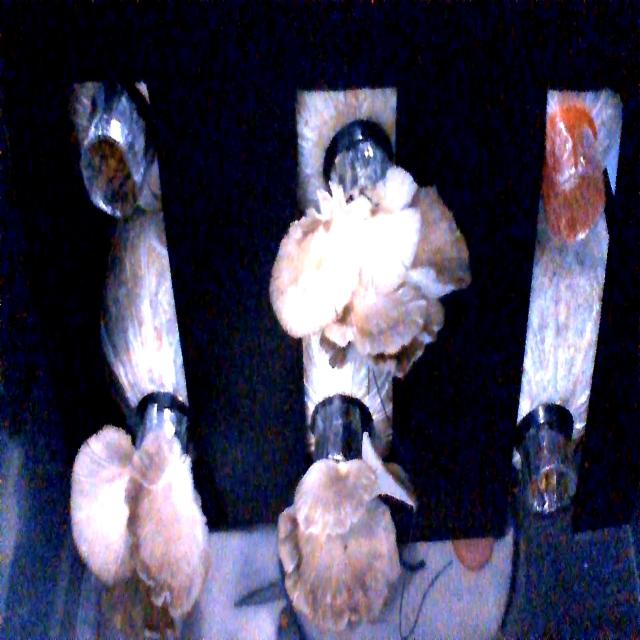big: (268, 176, 462, 374), (270, 448, 420, 633), (70, 426, 214, 609)
nfound: (540, 148, 616, 246), (79, 129, 143, 224), (522, 456, 576, 516)
